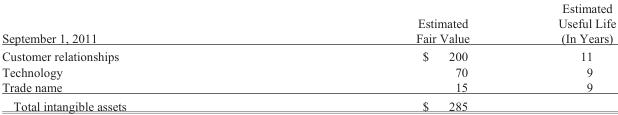table: (1, 0, 615, 112)
table column: (1, 0, 270, 112), (270, 0, 513, 112), (513, 0, 615, 112)
table column header: (1, 0, 615, 46)
table row: (1, 0, 615, 46), (1, 46, 615, 63), (1, 78, 615, 95), (1, 95, 615, 112), (1, 63, 615, 78)
